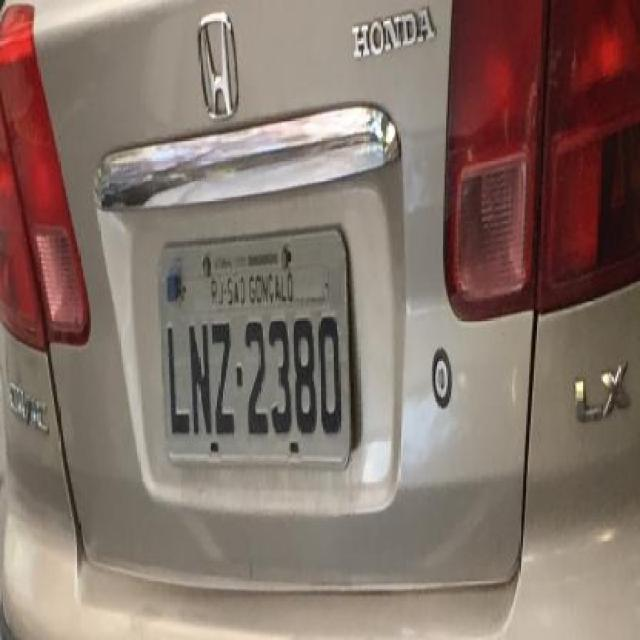old_plate: (148, 220, 364, 472)
